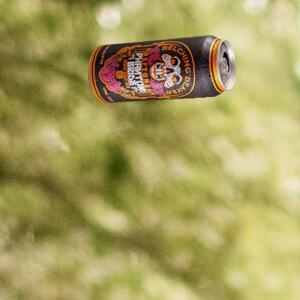can: (89, 33, 239, 103)
